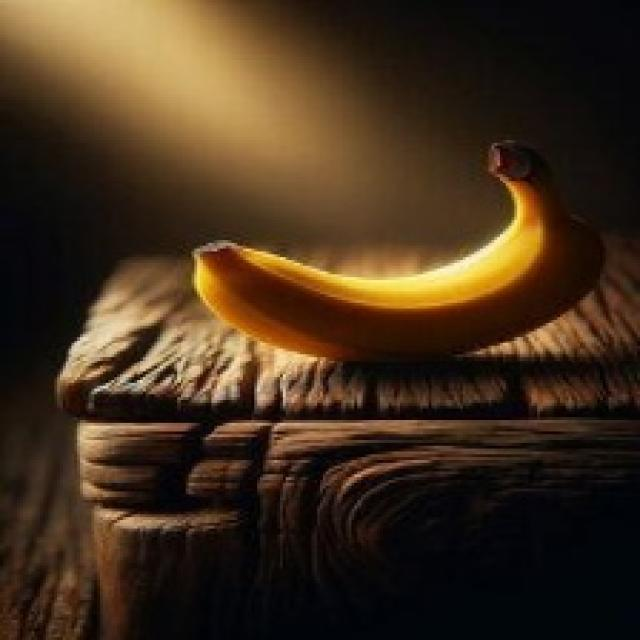Banana: (188, 137, 606, 360)
